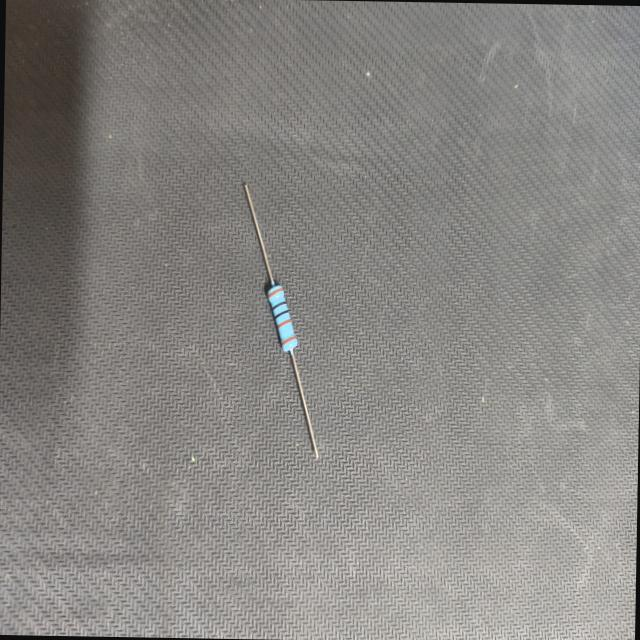resistor: (233, 173, 331, 467)
